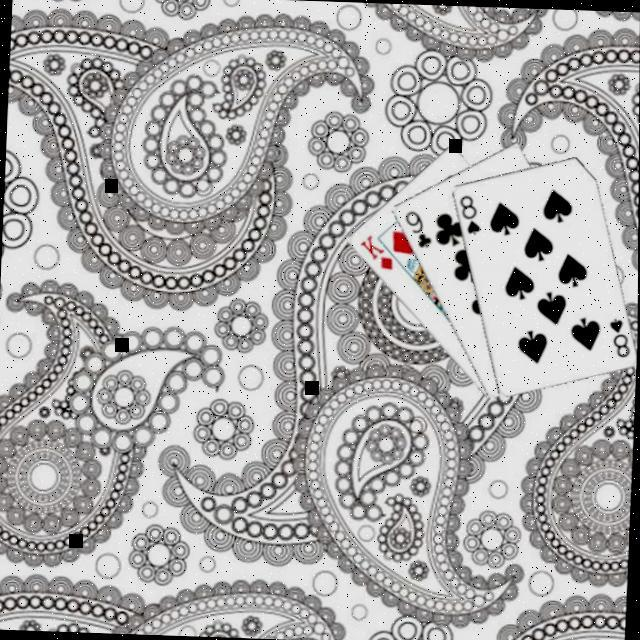8S: (454, 192, 484, 238), (604, 314, 634, 360)
9C: (400, 208, 436, 252)
KD: (357, 232, 398, 274)
